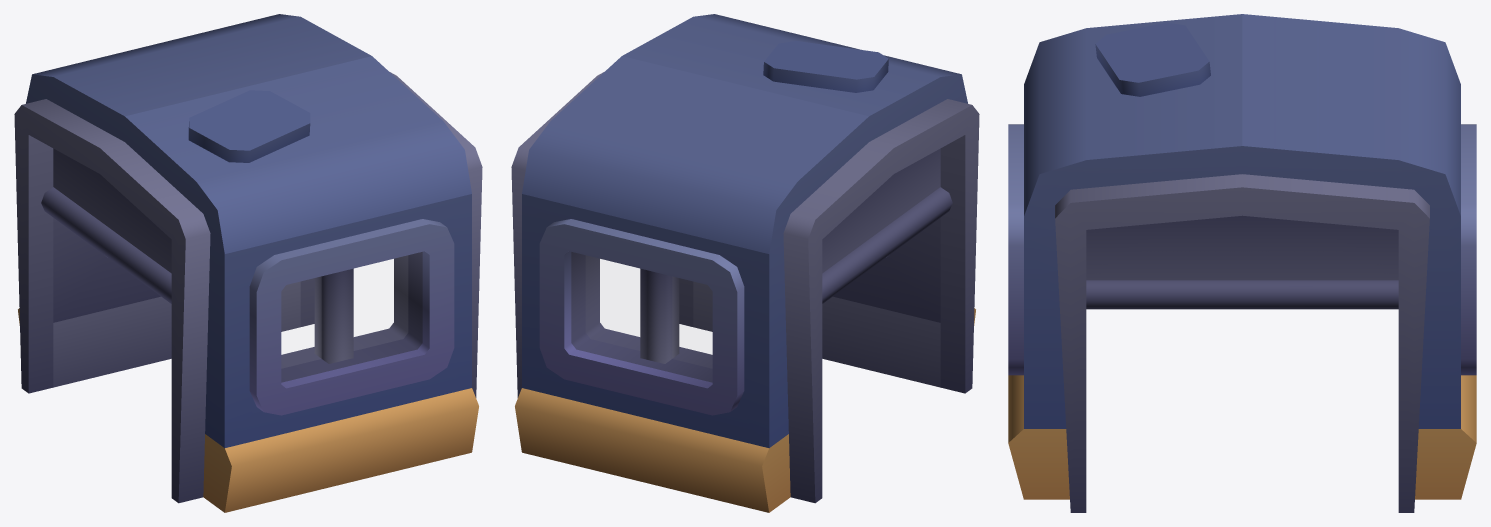
Rendered from machine-window-bar.glb.
3 renders of one model, left to right at view 1: azimuth 30°, elevation 25°; view 2: azimuth 150°, elevation 25°; view 3: azimuth 270°, elevation 25°, orthographic. The views are drawn at different scales.
Visible parts, largest first — view 1: machine-window-bar; view 2: machine-window-bar; view 3: machine-window-bar.
Part boxes in pixels (bbox=[...]): machine-window-bar: bbox=[14, 14, 482, 512]; machine-window-bar: bbox=[511, 14, 979, 512]; machine-window-bar: bbox=[1008, 14, 1476, 512].
Size of the model in its own units: 1.2 by 1.29 by 1.5.
